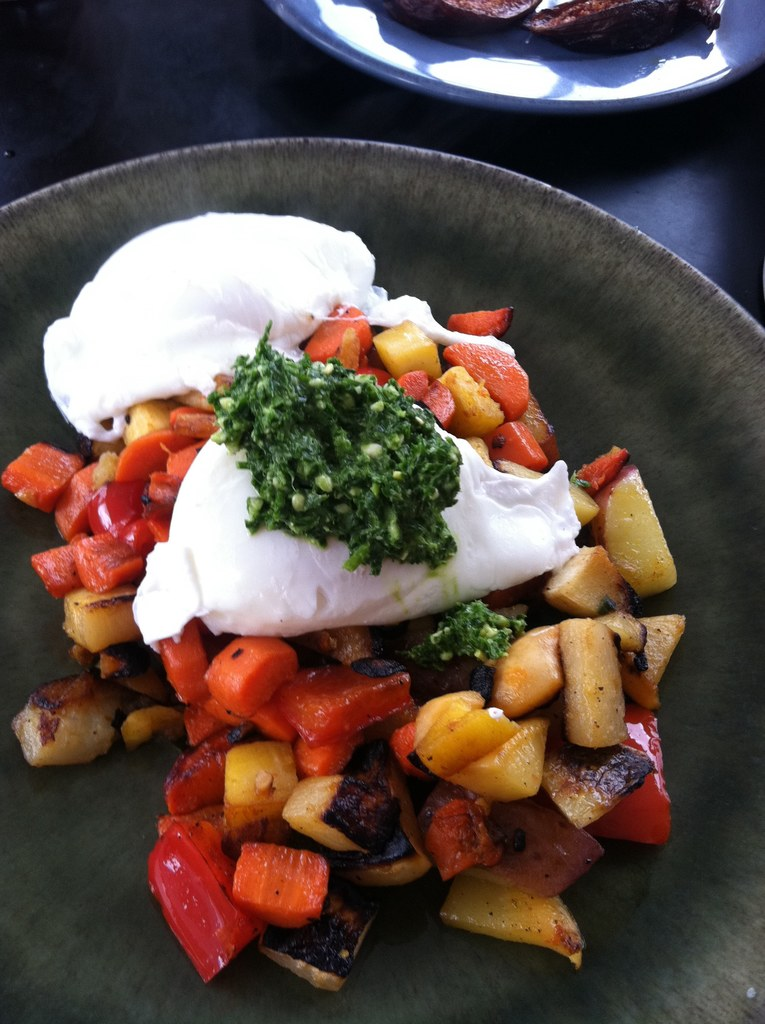Carrot: (158, 640, 423, 783), (228, 837, 326, 928), (444, 344, 527, 419), (2, 440, 81, 510), (112, 424, 196, 476), (311, 300, 371, 364), (58, 464, 100, 543), (485, 419, 549, 469), (451, 305, 520, 335), (168, 436, 205, 478), (172, 412, 224, 436)
